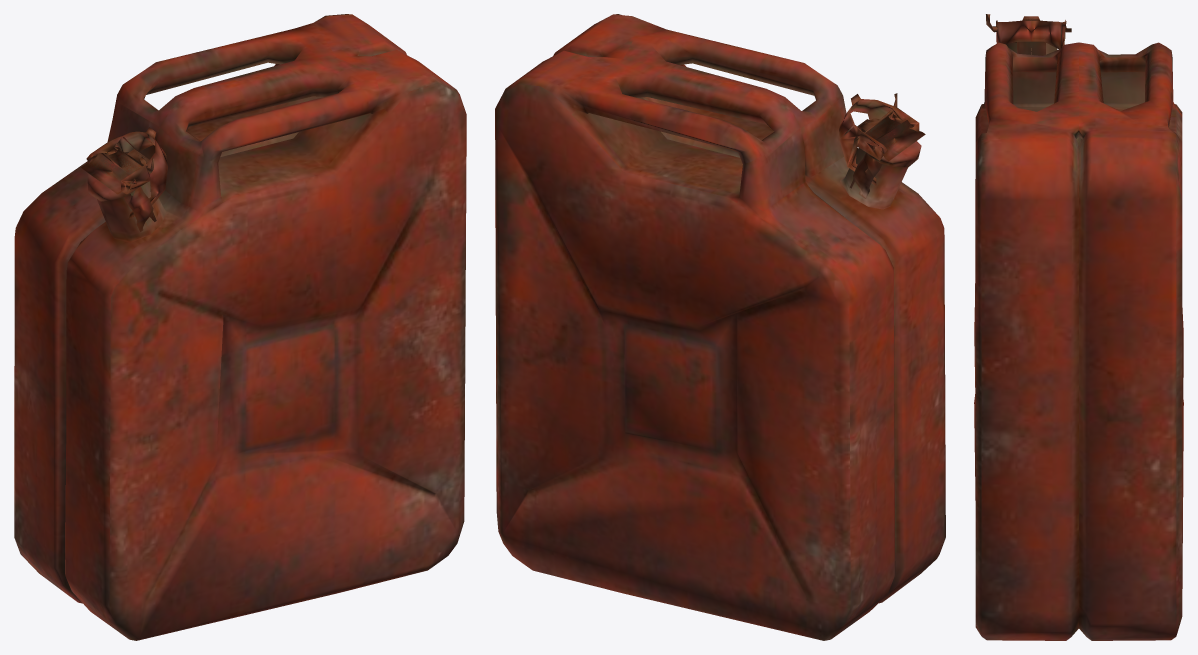
File: metal_jerrycan.glb
The picture shows the model from 3 angles, left to right: view 1: azimuth 30°, elevation 25°; view 2: azimuth 150°, elevation 25°; view 3: azimuth 270°, elevation 25°; orthographic projection. The views are drawn at different scales.
Visible parts, largest first — view 1: metal_jerrycan; view 2: metal_jerrycan; view 3: metal_jerrycan.
Part boxes in pixels (bbox=[...]): metal_jerrycan: bbox=[14, 14, 466, 640]; metal_jerrycan: bbox=[495, 14, 945, 640]; metal_jerrycan: bbox=[974, 14, 1183, 640].
Size of the model in its own units: 0.3489 by 0.4548 by 0.1717.
Materials: 1 (1 with a texture image).
